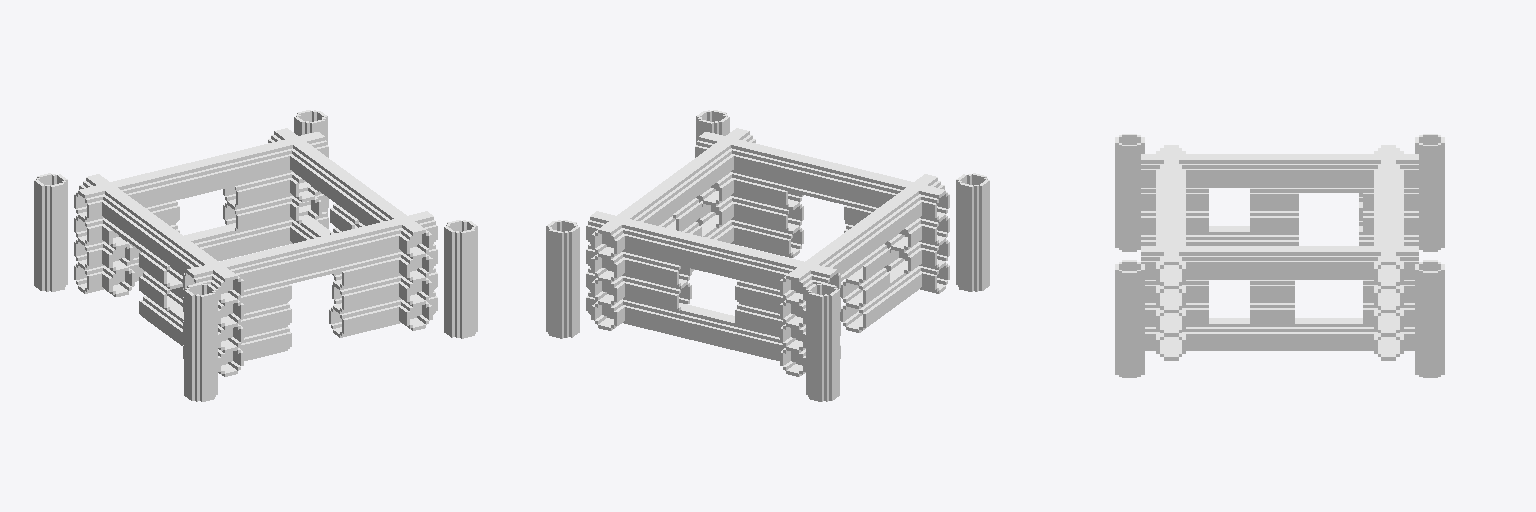
File: cabin0-2.obj
3 renders of one model, left to right at view 1: azimuth 30°, elevation 25°; view 2: azimuth 150°, elevation 25°; view 3: azimuth 270°, elevation 25°, orthographic.
Visible parts, largest first — view 1: object 1; view 2: object 1; view 3: object 1.
Part boxes in pixels (x1,y1,x2,y2): object 1: (34,110,477,401); object 1: (546,110,989,401); object 1: (1115,134,1444,377).
Bounding box in the file's own units: 8.8 × 3.1 × 8.8.